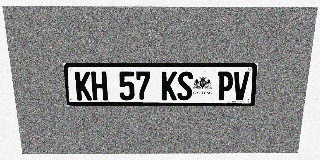5: (119, 71, 135, 100)
7: (135, 71, 151, 100)
H: (91, 71, 108, 100)
K: (75, 71, 92, 100), (162, 71, 177, 100)
P: (217, 71, 234, 100)
S: (177, 71, 193, 100)
V: (232, 71, 249, 100)
